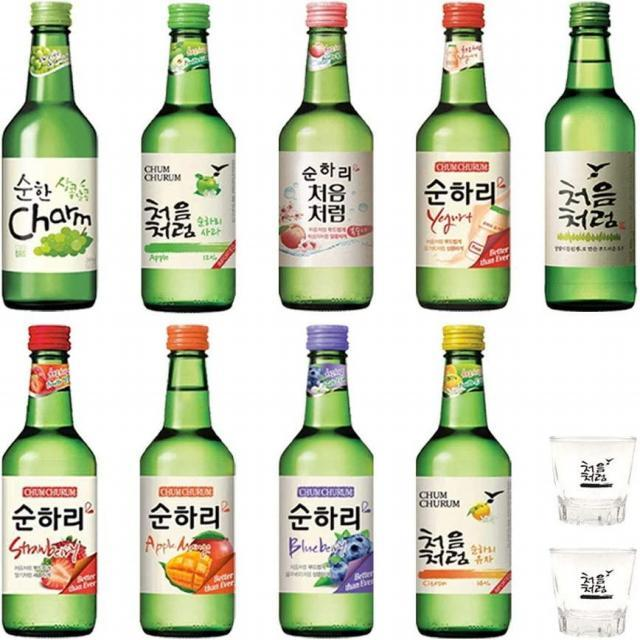soju-bottle: (137, 2, 238, 312), (1, 323, 100, 638), (416, 321, 514, 637), (140, 322, 237, 638), (1, 4, 100, 311), (415, 2, 513, 312), (278, 2, 376, 311), (278, 322, 372, 636), (544, 0, 638, 312)
